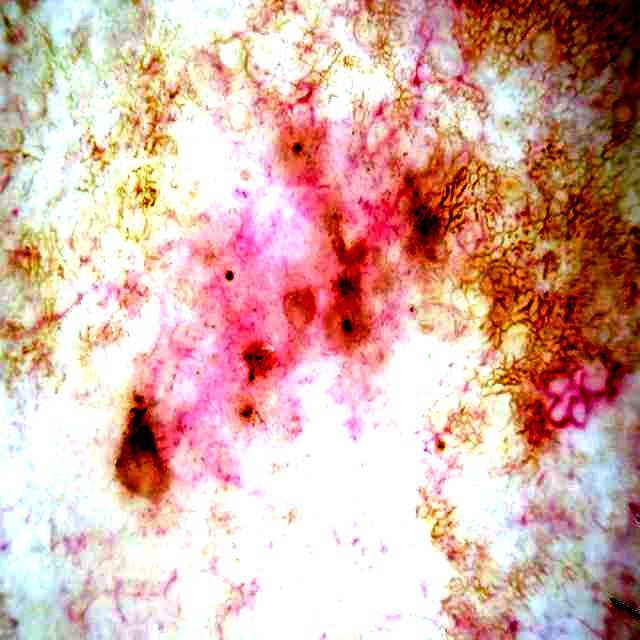BCC: (539, 363, 623, 427), (116, 408, 167, 498), (244, 344, 276, 380), (241, 405, 253, 417)
